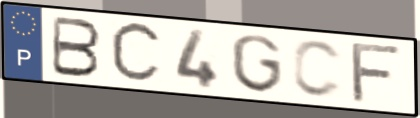4: (172, 26, 222, 91)
B: (49, 14, 104, 80)
C: (107, 19, 165, 87), (290, 38, 346, 101)
F: (349, 42, 406, 106)
G: (228, 32, 285, 95)
